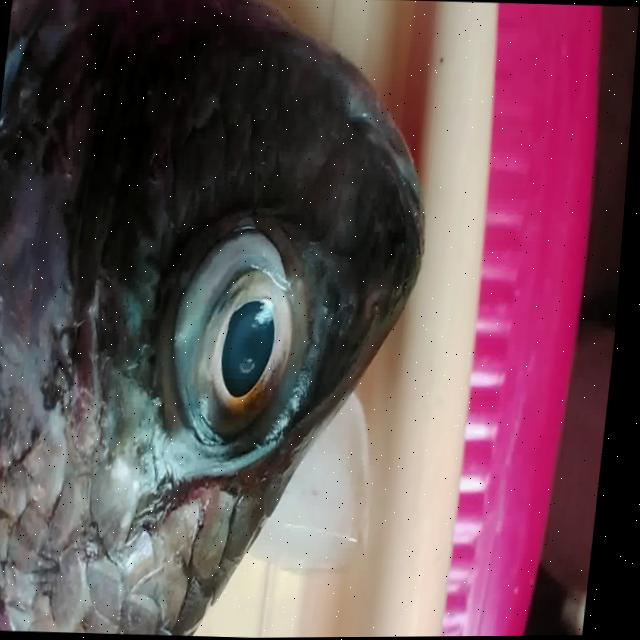Fresh: (142, 195, 333, 492)
